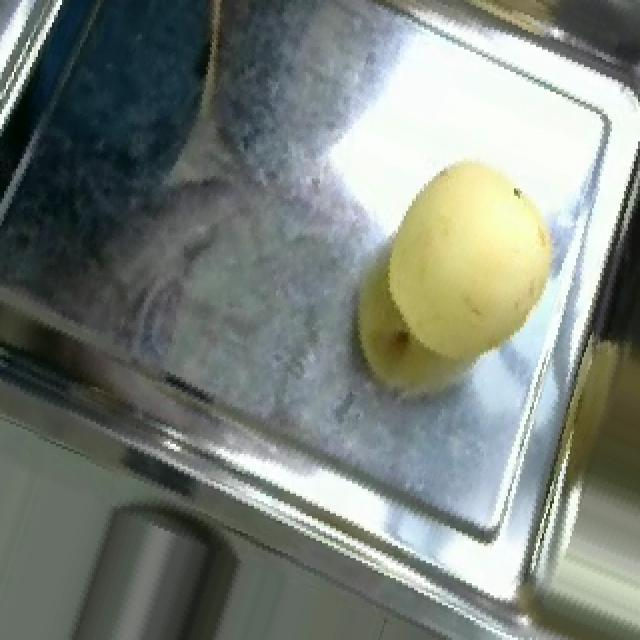Fruit: (318, 126, 586, 432)
